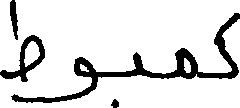X: (0, 0, 44, 107), (215, 8, 239, 83), (75, 52, 96, 103), (176, 43, 197, 83), (133, 47, 142, 80)
